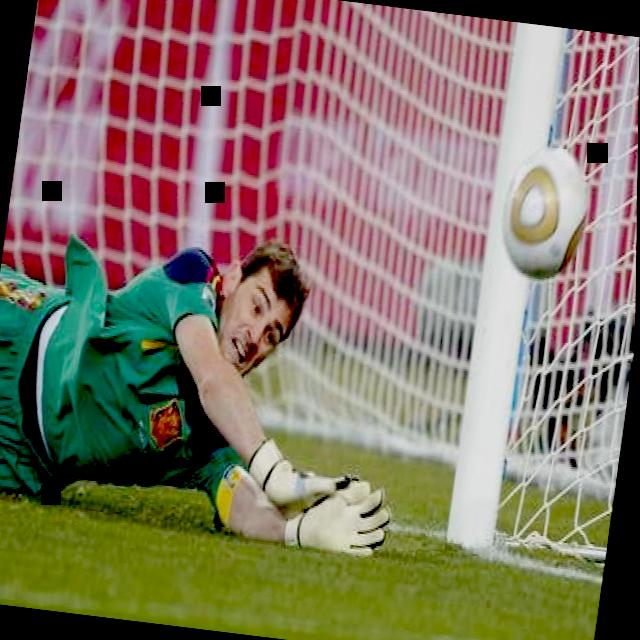Fall-Detected: (0, 185, 428, 568)
